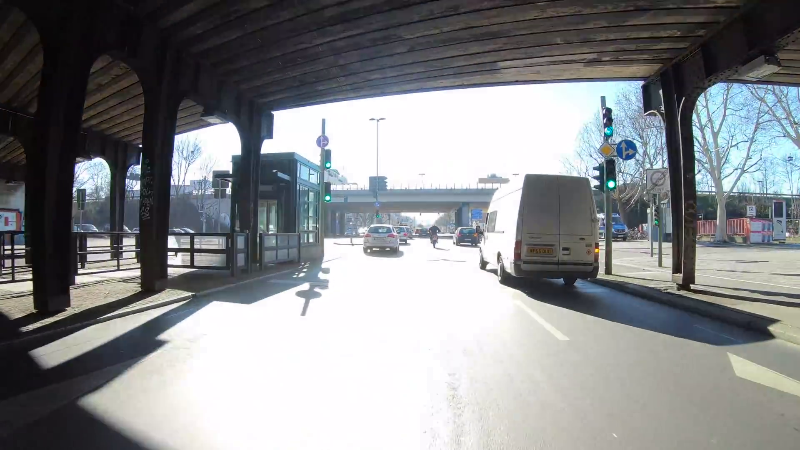Plate: (525, 245, 556, 256)
